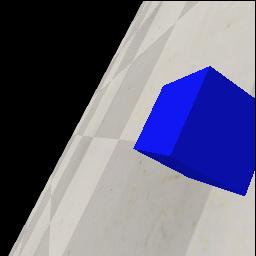box: (133, 66, 255, 196)
